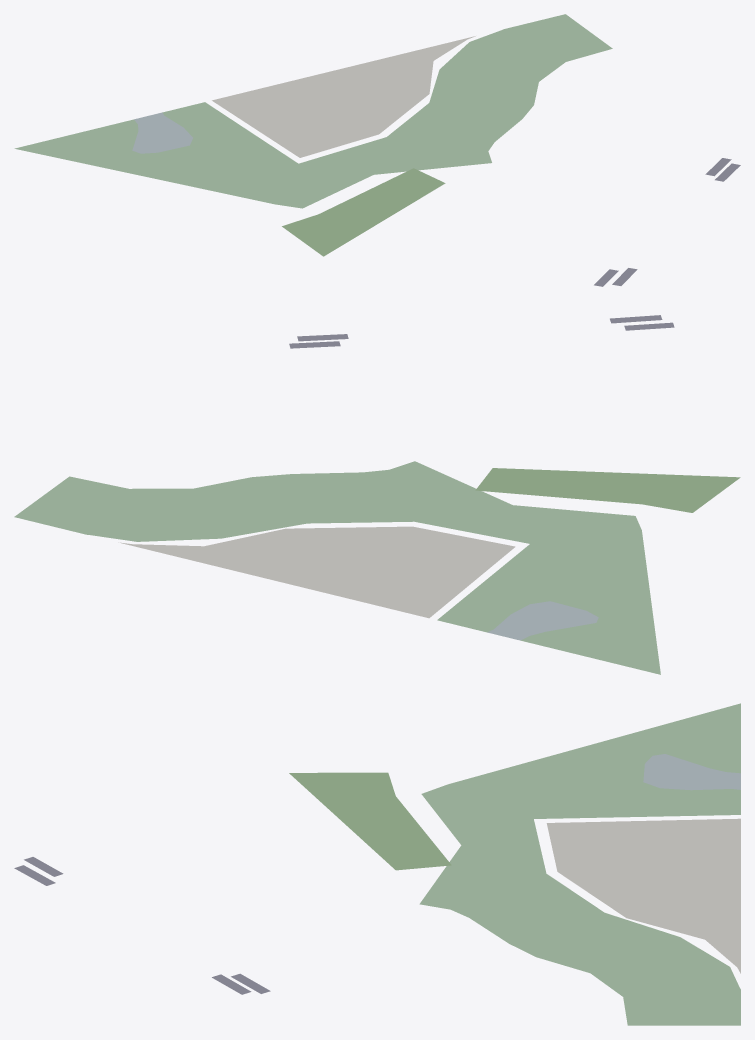
The model's file is 100_115_mid.glb.
3 renders of one model, top to bottom at view 1: azimuth 30°, elevation 25°; view 2: azimuth 150°, elevation 25°; view 3: azimuth 270°, elevation 25°, orthographic. The views are drawn at different scales.
Size of the model in its own units: 440 by 8 by 419.
